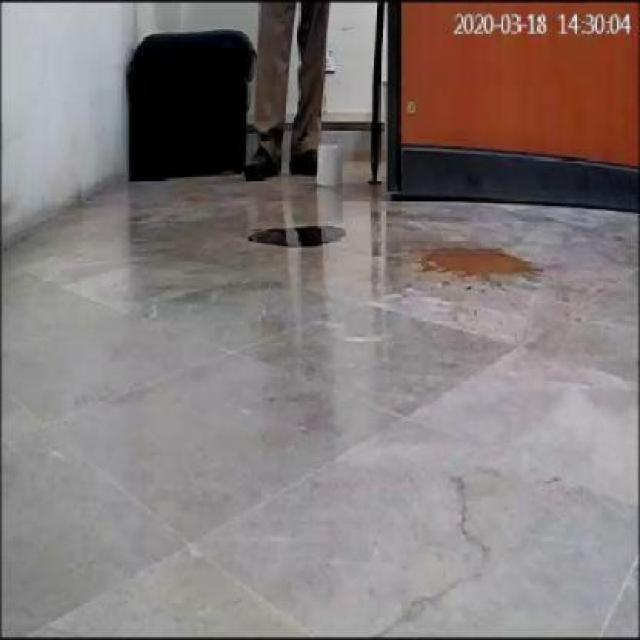spillage: (417, 250, 538, 283), (247, 225, 347, 250)
